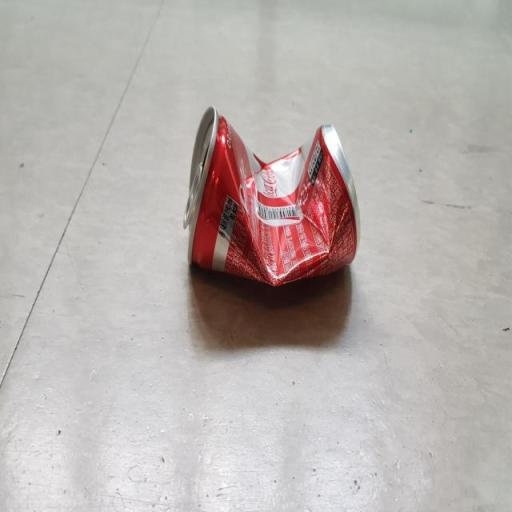metal: (169, 73, 367, 312)
